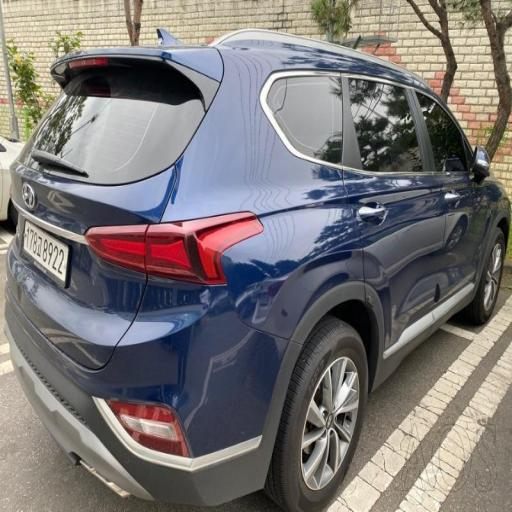scratch: (154, 246, 295, 477)
